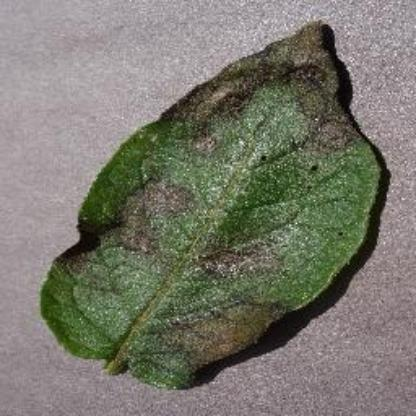Late-Blight: (50, 18, 390, 384)
